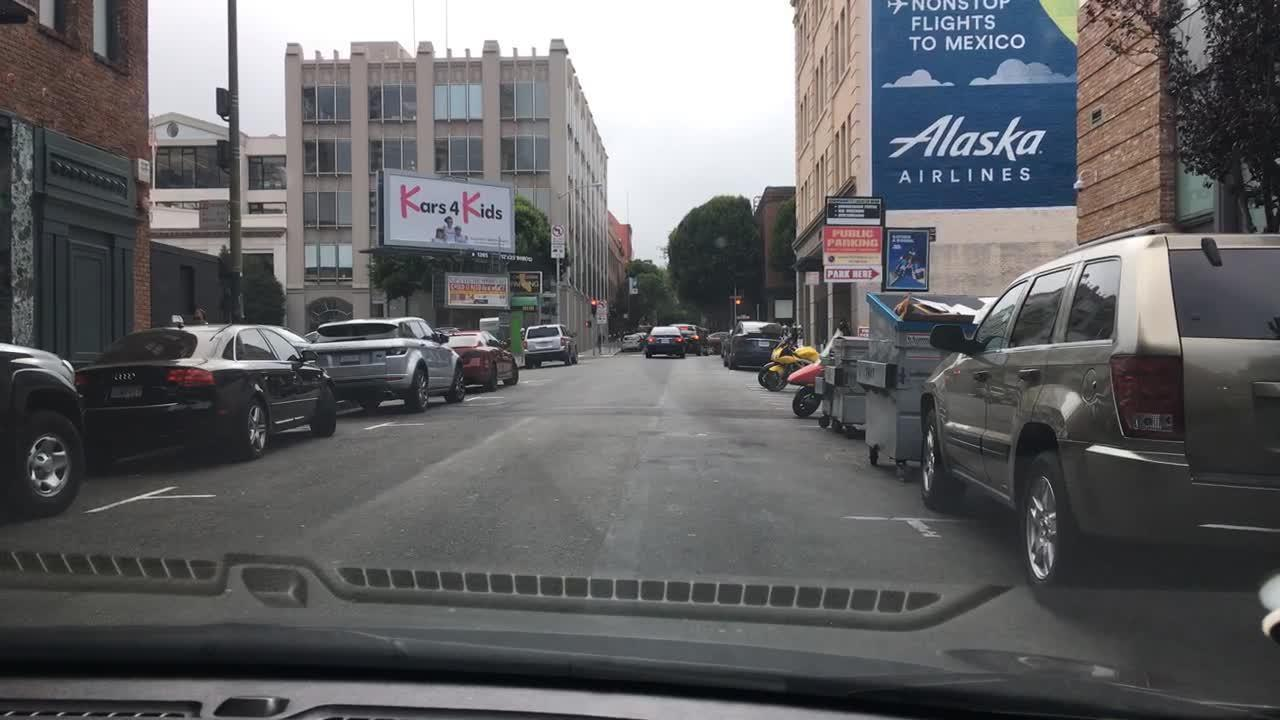Audi: (113, 371, 138, 382)
